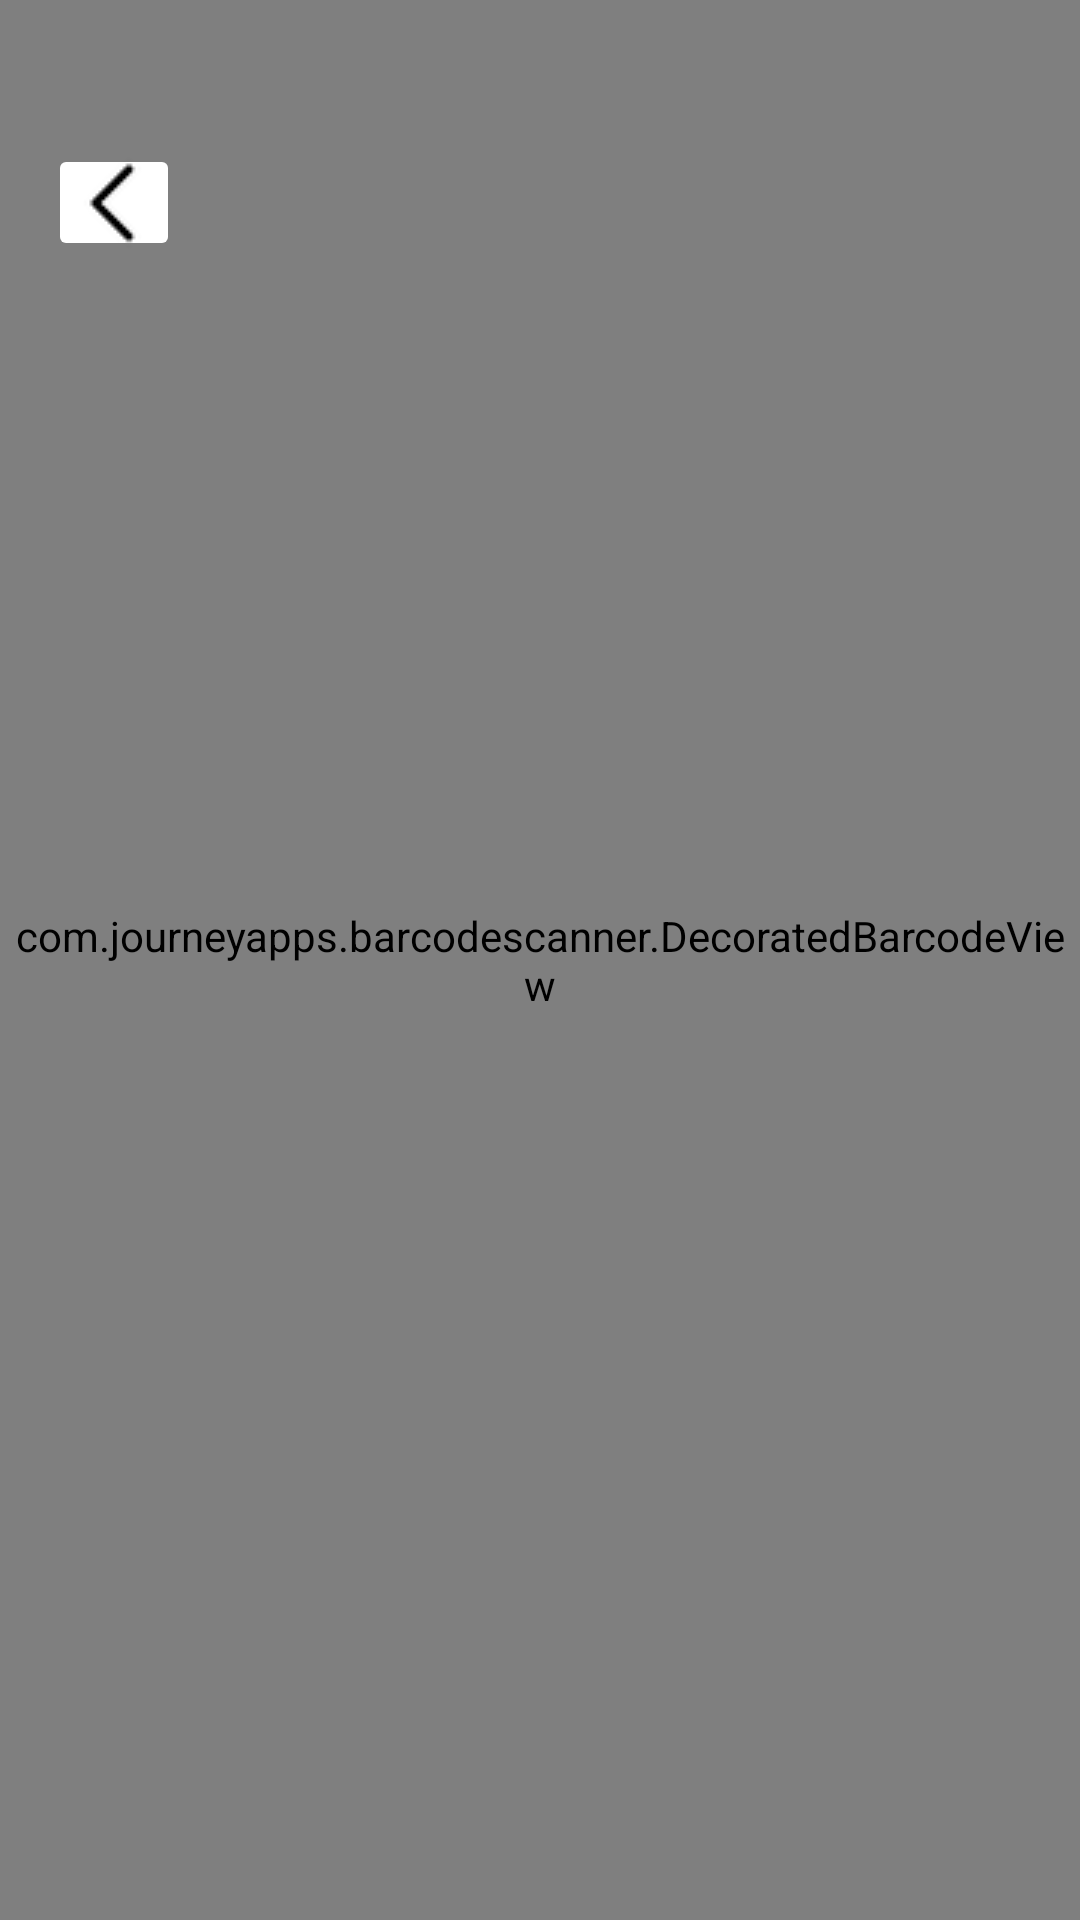

Icon click points for this 1080px×1920px phone screenshot, format point (x, y):
Back: point (114, 202)
